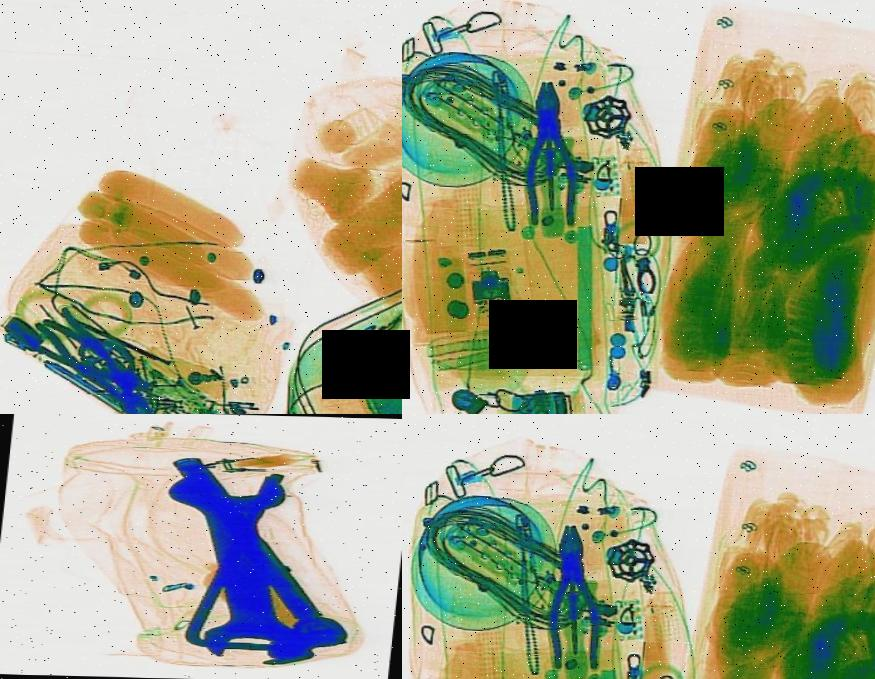Pliers: (20, 306, 184, 414), (14, 302, 170, 408), (514, 76, 584, 228), (536, 520, 606, 672)
Wrench: (142, 464, 337, 668)
